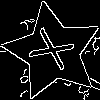X: (28, 27, 85, 76)
